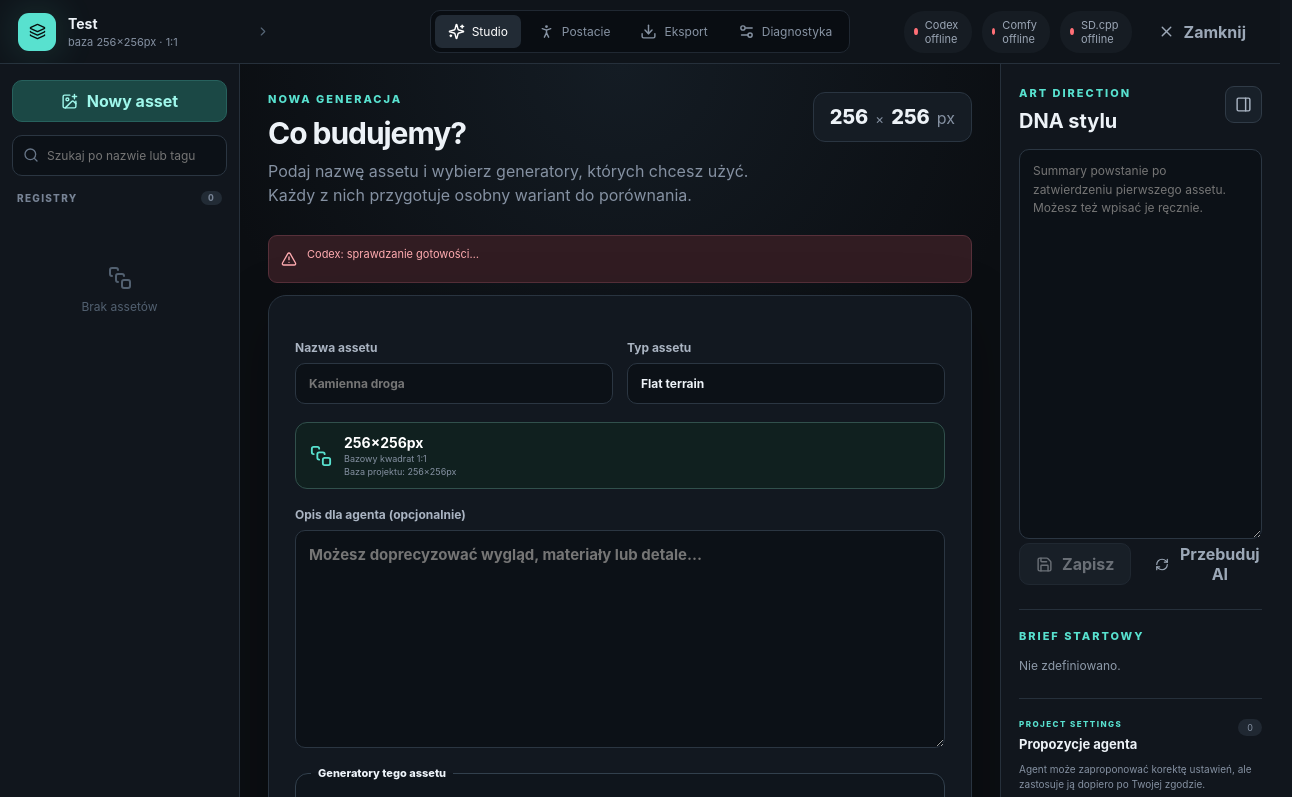
pokazuje postaci top-down wyłącznie w kierunkach N/E/S/W
This screenshot has width=1292, height=797.
Click the button "Postacie".
click(574, 32)  # box [525,15,623,48]
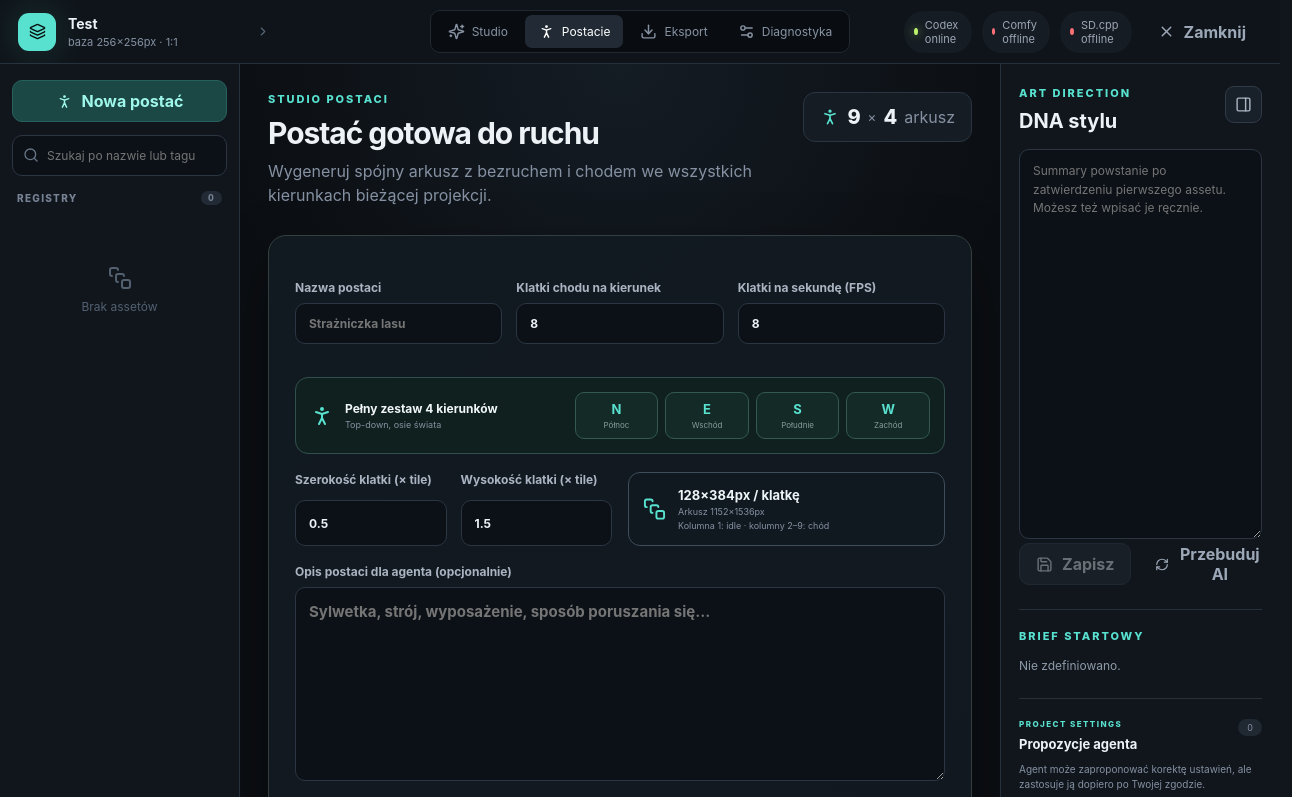
Expected: the text "N" is shown, [612,401,621,417]
Now the text "S" is shown, box [793,401,802,417]
Now the text "Top-down, osie świata" is shown, box [345,419,441,430]
